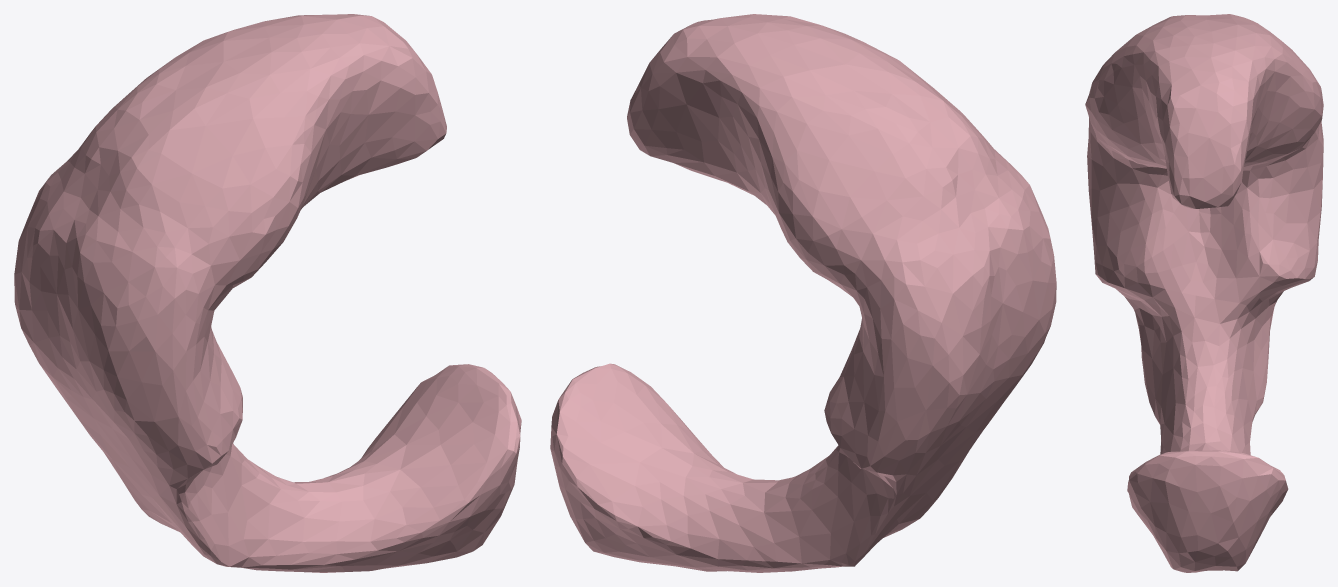
3 views of the same model, side by side, from view 1: azimuth 30°, elevation 25°; view 2: azimuth 150°, elevation 25°; view 3: azimuth 270°, elevation 25° (orthographic). The views are drawn at different scales.
Visible parts, largest first — view 1: 571.obj; view 2: 571.obj; view 3: 571.obj.
Part boxes in pixels (box(x1,y1,x2,y2)): 571.obj: box(14, 14, 521, 572); 571.obj: box(550, 14, 1056, 572); 571.obj: box(1085, 14, 1323, 572).
Size of the model in its own units: 1928 by 2280 by 1047.
